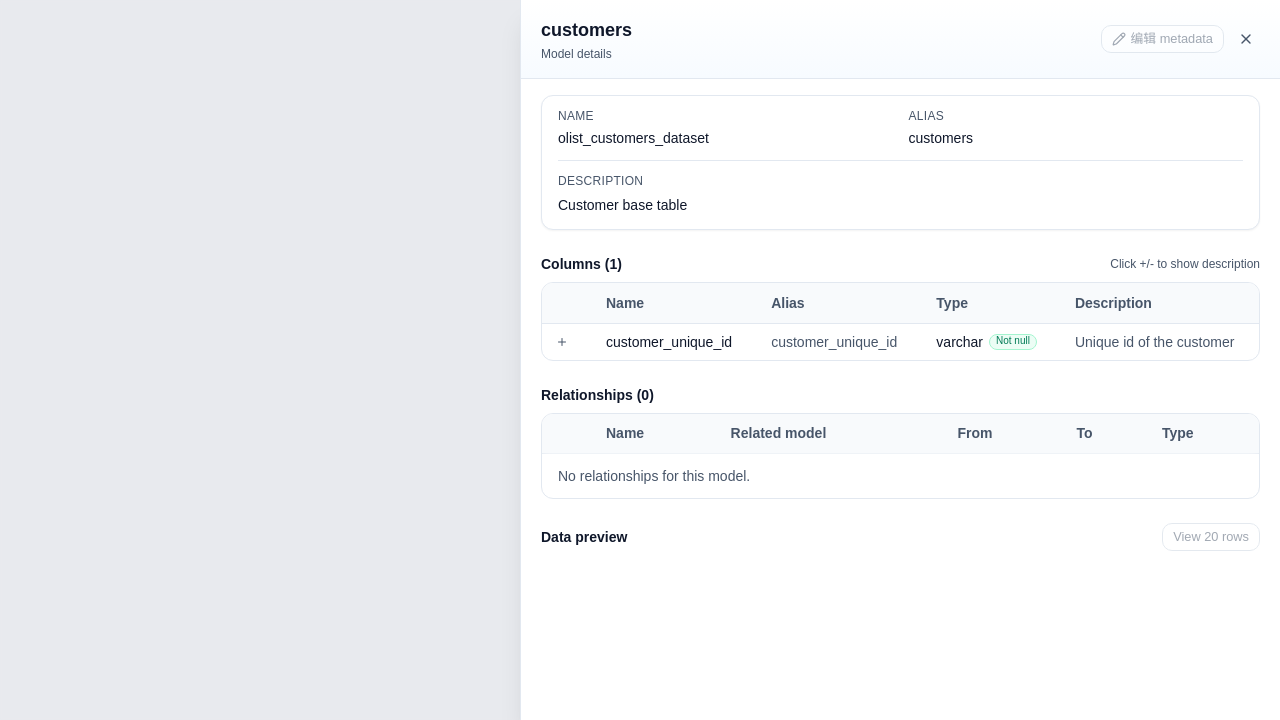
ModelingModelDrawer › expands column details on demand
This screenshot has width=1280, height=720.
Click the button named "Expand column customer_unique_id": (562, 342) [550, 330, 574, 354]
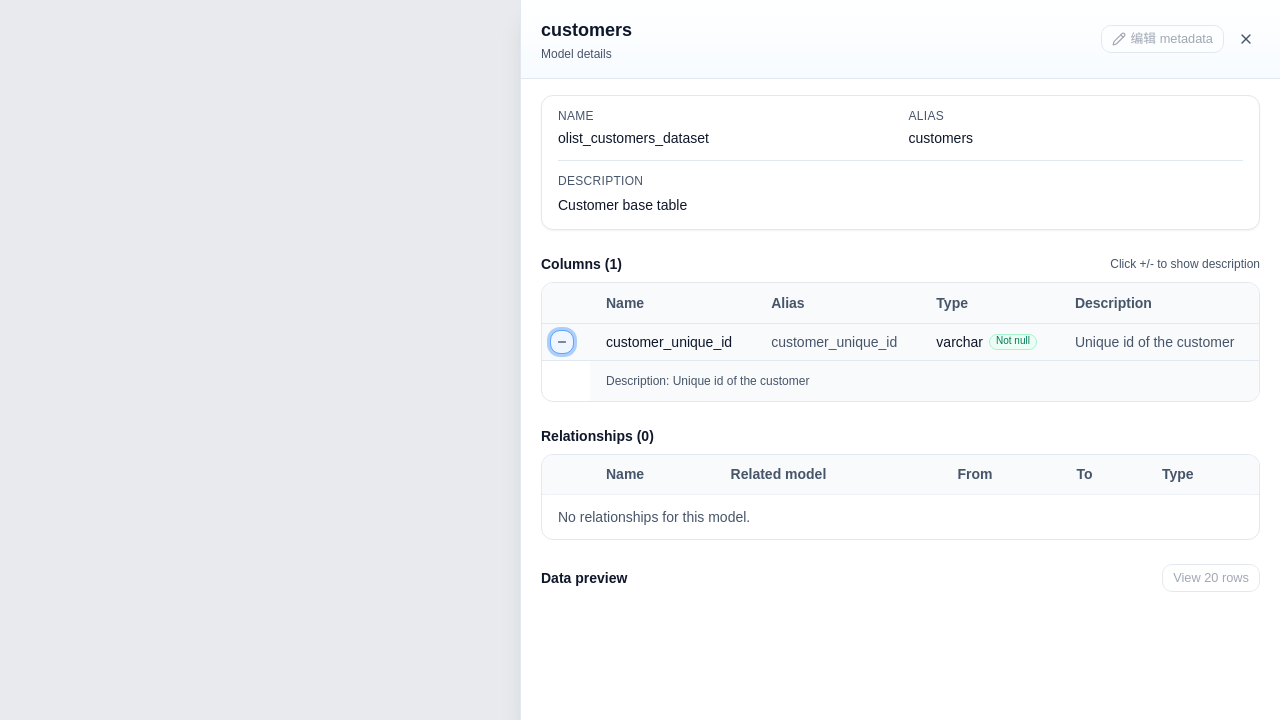
Result: the text "Description: Unique id of the customer" is shown at [590, 360, 1259, 400]
